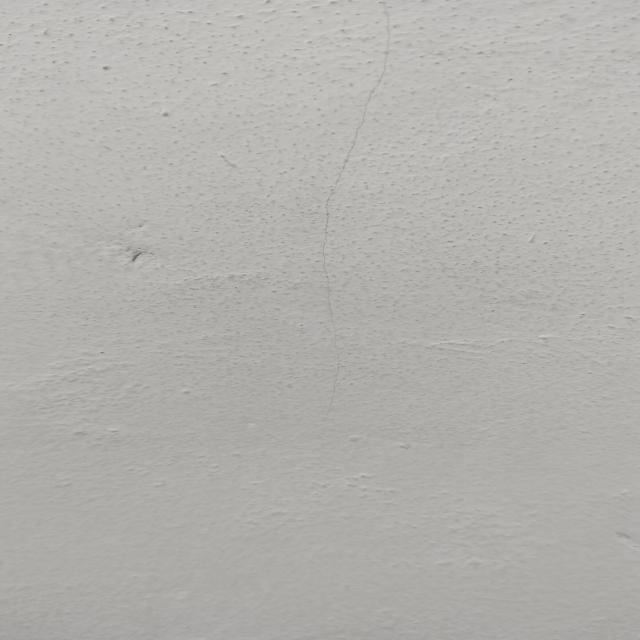Crack: (300, 1, 400, 427)
